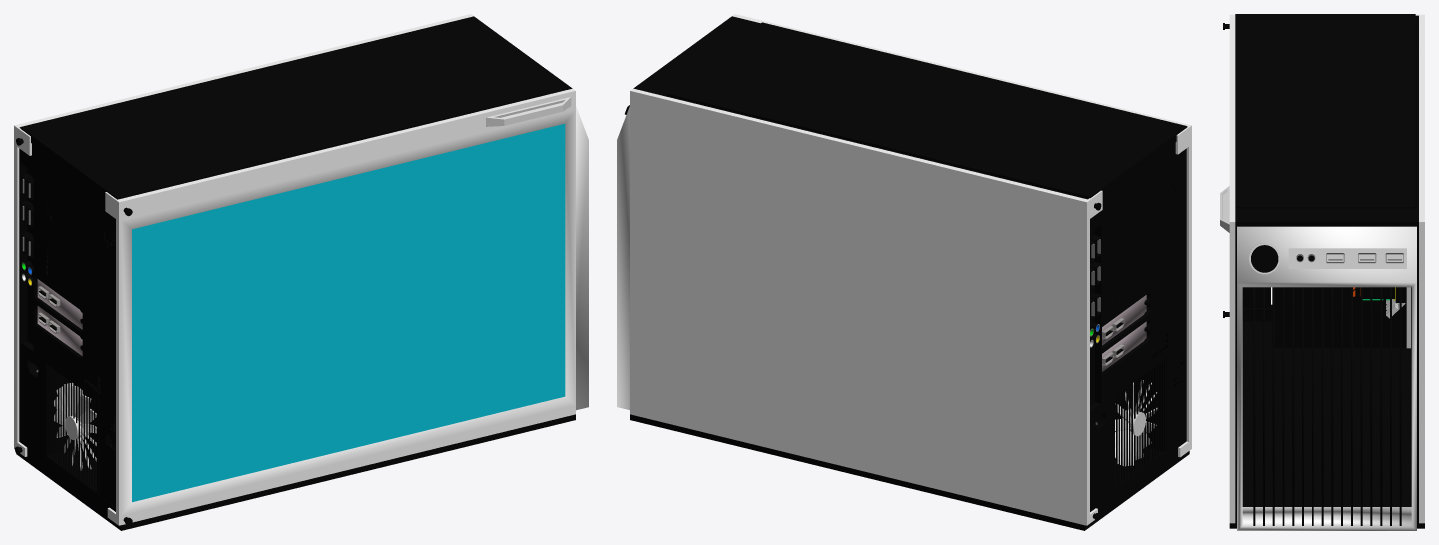
File: case4.fbx
3 renders of one model, left to right at view 1: azimuth 30°, elevation 25°; view 2: azimuth 150°, elevation 25°; view 3: azimuth 270°, elevation 25°, orthographic. The views are drawn at different scales.
Parts seen in each view (by area): view 1: right, Plane, back, power, left, Plane.001, powerfan; view 2: left, Plane, back, power, Plane.001, right, powerfan; view 3: Plane, Plane.001, Plane.002, power, right, left, USB, back, powerbutton, ram2, motherboard.
Part boxes in pixels (x1,y1,x2,y2): right: (105, 88, 575, 525); Plane: (16, 16, 575, 530); back: (19, 168, 115, 507); power: (21, 341, 99, 495); left: (14, 14, 473, 456); Plane.001: (576, 106, 588, 410); powerfan: (54, 382, 96, 470); left: (630, 88, 1102, 525); Plane: (630, 16, 1189, 530); back: (1090, 163, 1185, 451); power: (1090, 356, 1166, 507); Plane.001: (617, 106, 629, 409); right: (732, 14, 1191, 457); powerfan: (1115, 380, 1157, 466); Plane: (1229, 14, 1424, 528); Plane.001: (1237, 226, 1416, 530); Plane.002: (1253, 287, 1401, 525); power: (1272, 287, 1411, 347); right: (1220, 14, 1235, 523); left: (1415, 14, 1424, 523); USB: (1249, 243, 1406, 274); back: (1242, 51, 1416, 307); powerbutton: (1251, 245, 1278, 272); ram2: (1350, 287, 1395, 300); motherboard: (1395, 287, 1410, 348).
Size of the model in its own units: 26.35 by 17.37 by 10.48.
